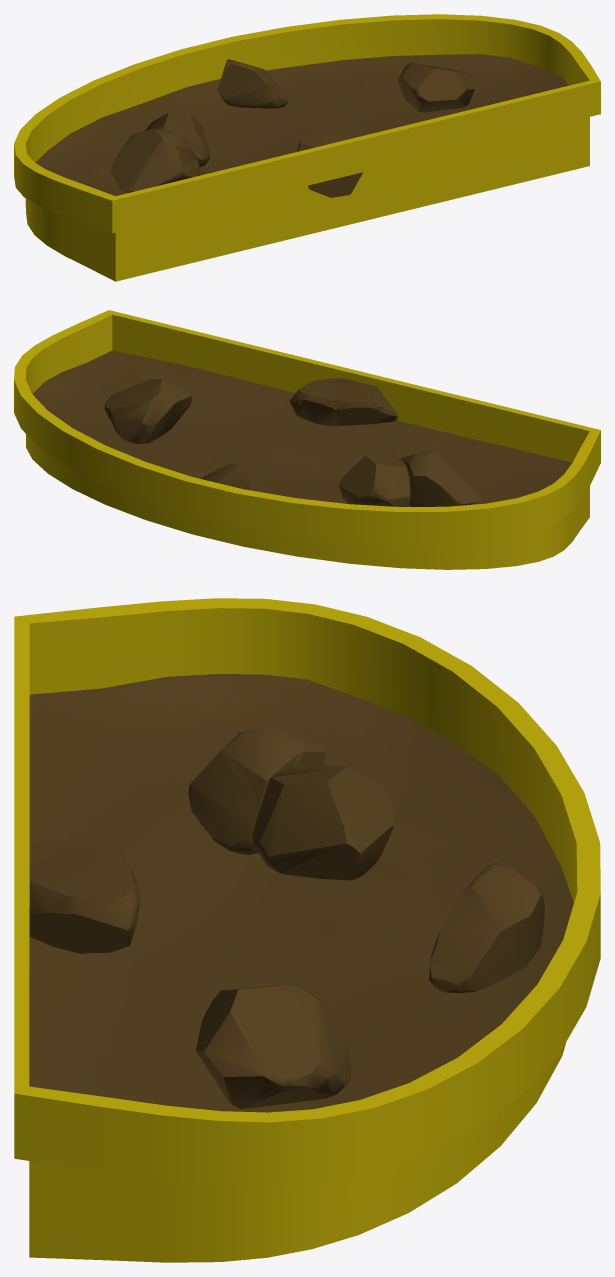
The model's file is toybox_river.fbx.
3 views of the same model, one above another, from view 1: azimuth 30°, elevation 25°; view 2: azimuth 150°, elevation 25°; view 3: azimuth 270°, elevation 25° (orthographic). The views are drawn at different scales.
Parts seen in each view (by area): view 1: Container, River; view 2: Container, River; view 3: River, Container.
Part boxes in pixels (box(x1,y1,x2,y2)): Container: box(14, 14, 600, 281); River: box(35, 54, 568, 197); Container: box(14, 310, 600, 569); River: box(32, 350, 571, 506); River: box(29, 674, 573, 1112); Container: box(14, 598, 600, 1262).
Size of the model in its own units: 1889 by 288 by 895.
